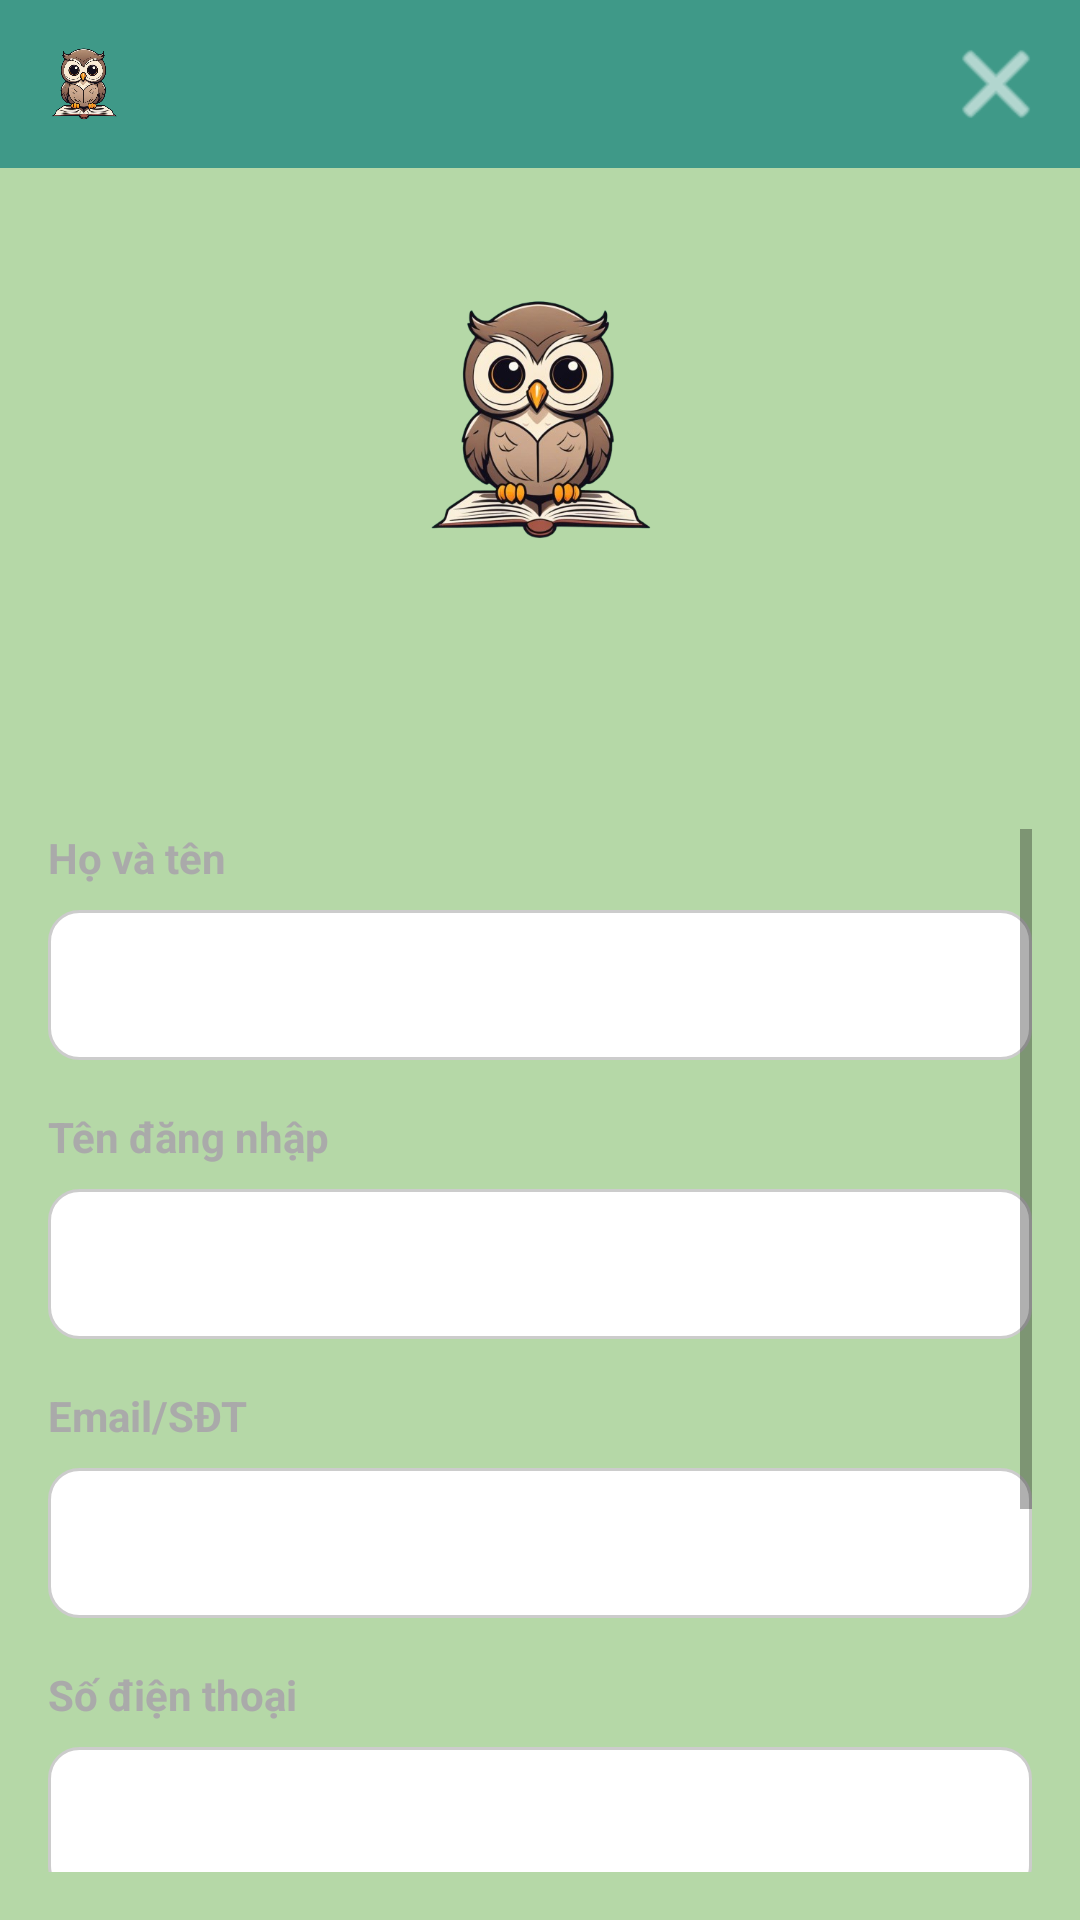

Icons on this 1080×1920 Android screen, each with its box as (x1, y1, x2, y2):
close clear cancel: (962, 50, 1030, 118)
